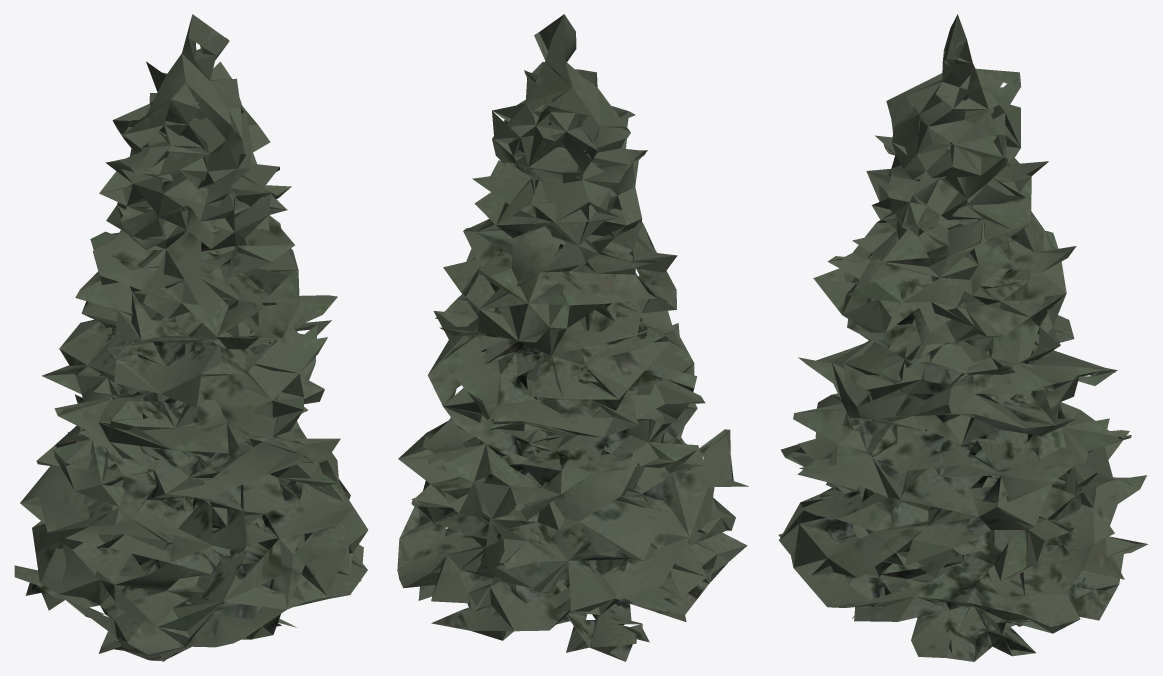
File: conifer.glb
The picture shows the model from 3 angles, left to right: view 1: azimuth 30°, elevation 25°; view 2: azimuth 150°, elevation 25°; view 3: azimuth 270°, elevation 25°; orthographic projection.
Parts seen in each view (by area): view 1: conifer; view 2: conifer; view 3: conifer.
Part boxes in pixels (x1=…): conifer: x1=14, y1=14, x2=368, y2=661; conifer: x1=397, y1=14, x2=748, y2=661; conifer: x1=778, y1=14, x2=1148, y2=661.
Size of the model in its own units: 4.84 by 9 by 4.93.
1 material, 1 textured.
